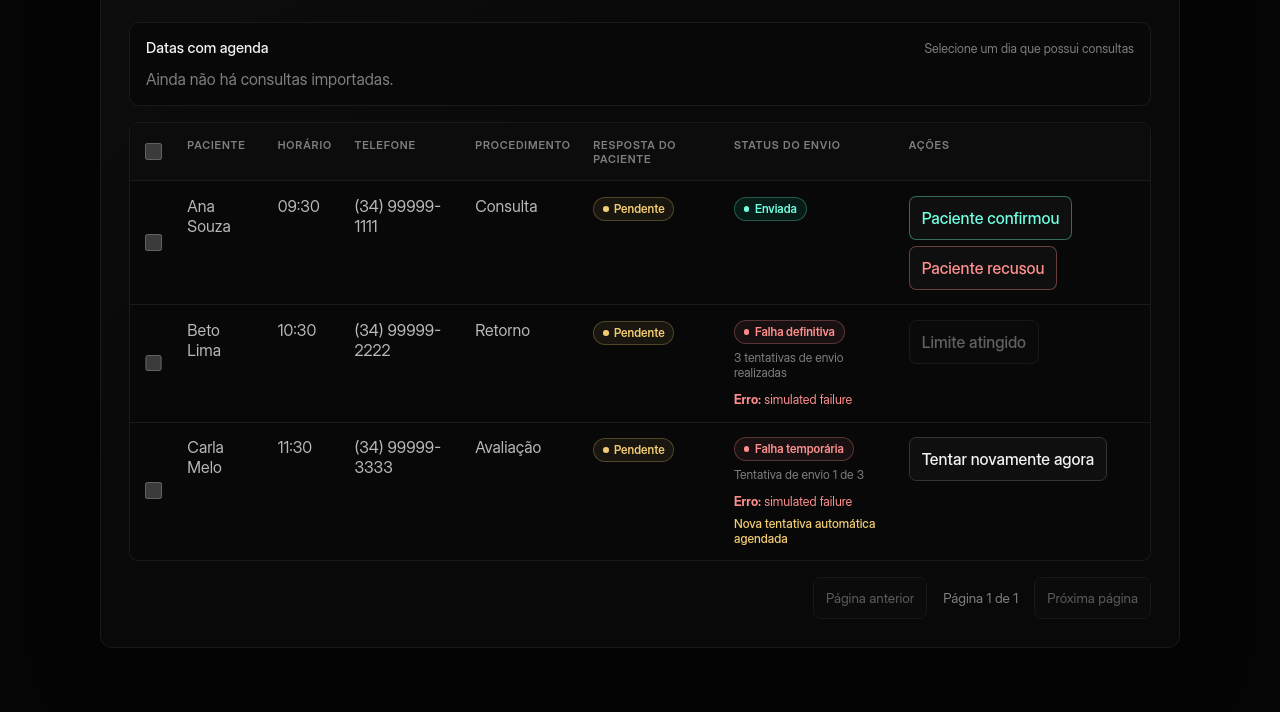
Test: retries a failed message with queued=true
(page scrolled)
Click the button "Tentar novamente agora" at (1008, 459), box x1=909 y1=437 x2=1107 y2=481
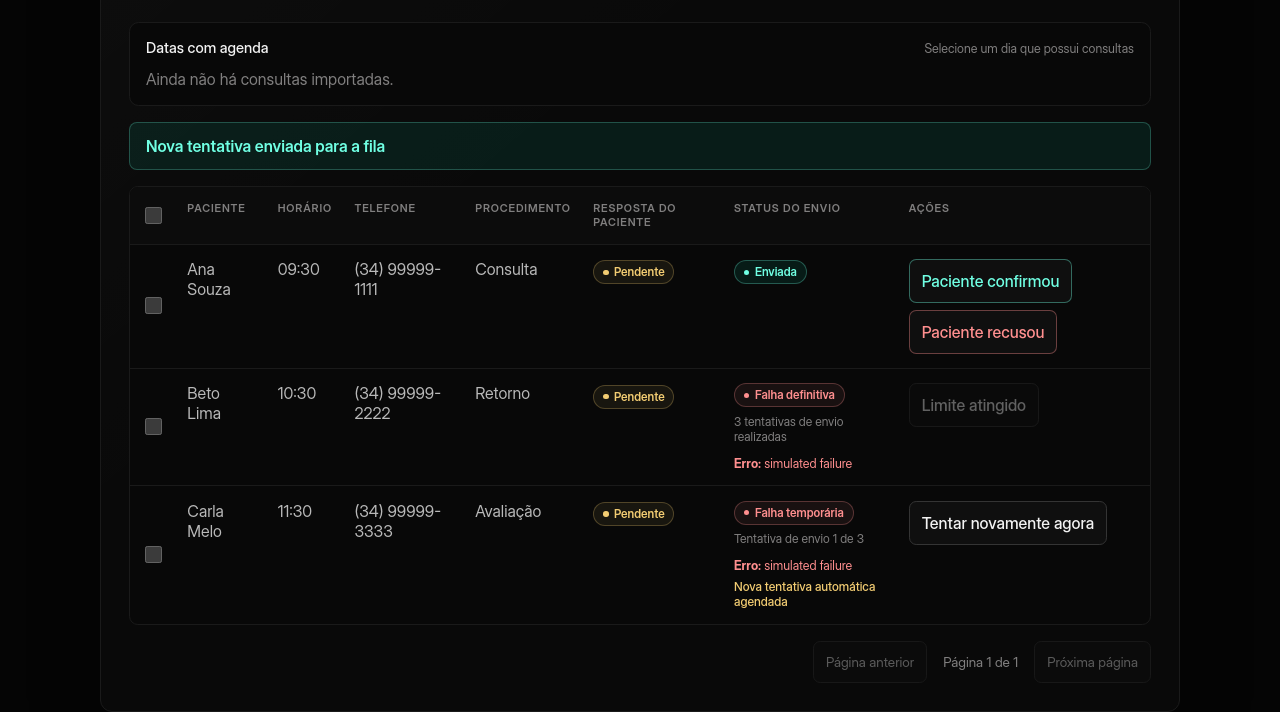
Now the text "Nova tentativa enviada para a fila" is shown, box x1=129 y1=122 x2=1151 y2=170
